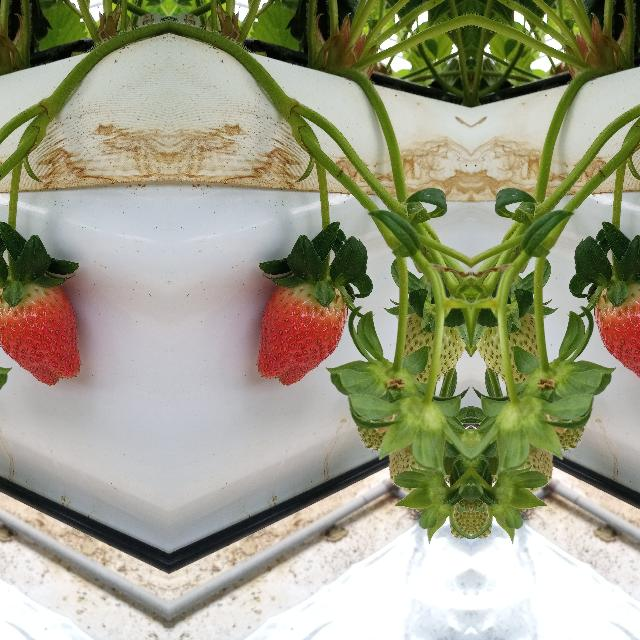Health_100: (255, 279, 347, 386), (0, 279, 81, 386), (594, 279, 640, 386)
Health_25: (398, 285, 459, 391), (482, 285, 542, 391)
